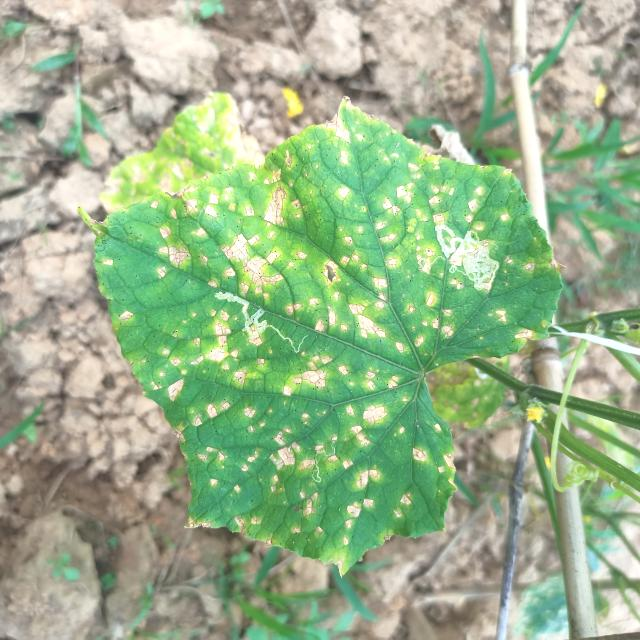disease_cucumber: (139, 132, 541, 548)
